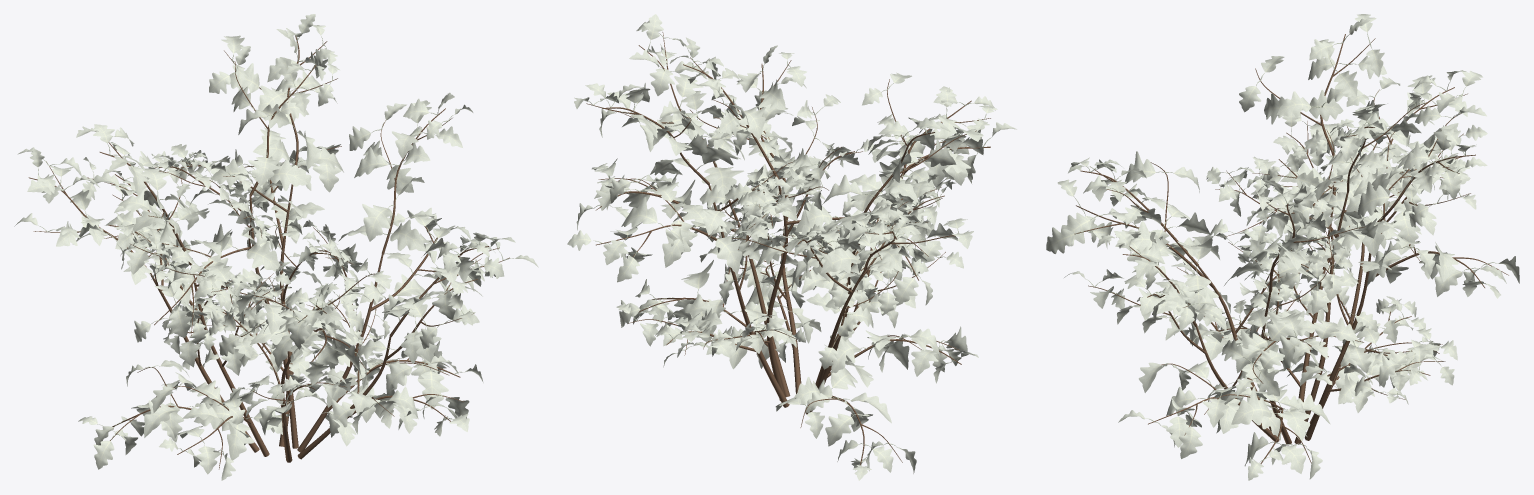
Rendered from hydrangea-branches.glb.
3 renders of one model, left to right at view 1: azimuth 30°, elevation 25°; view 2: azimuth 150°, elevation 25°; view 3: azimuth 270°, elevation 25°, orthographic. The views are drawn at different scales.
Parts seen in each view (by area): view 1: Stem 2 branch 2 upright node 1 blade 1, Stem 2 branch 2 upright node 0 blade 0, Stem 2 branch 0 arching node 3 blade 1, Stem 0 branch 0 arching node 1 blade 0, Persistent stem 2, Persistent stem 0, Stem 5 branch 1 arching node 0 blade 1, Stem 5 branch 2 upright node 0 blade 0, Persistent stem 5, Stem 4 branch 0 arching node 1 blade 0; view 2: Persistent stem 5, Persistent stem 1, Stem 2 branch 2 upright node 0 blade 1, Persistent stem 6, Stem 1 branch 1 arching node 0 blade 1, Stem 4 branch 2 upright node 0 blade 0, Persistent stem 2, Stem 4 branch 0 arching node 2 blade 0, Stem 1 branch 1 arching node 2 blade 0, Stem 1 branch 1 arching node 1 blade 0, Stem 5 branch 1 arching node 1 blade 1, Stem 0 branch 0 arching node 1 blade 1 (+3 smaller); view 3: Stem 2 branch 0 arching node 2 blade 0, Persistent stem 1, Stem 1 branch 2 upright node 1 blade 1, Stem 3 branch 1 arching node 0 blade 1, Stem 0 branch 2 upright lateral 0 node 0 blade 1, Persistent stem 5, Stem 2 branch 1 forked lateral 0 node 0 blade 1, Stem 2 branch 0 arching node 1 blade 0, Stem 3 branch 1 arching node 3 blade 0, Stem 3 branch 1 arching lateral 1 node 0 blade 0.
Part boxes in pixels (x1=…): Stem 2 branch 2 upright node 1 blade 1: x1=362, y1=204, x2=392, y2=241; Stem 2 branch 2 upright node 0 blade 0: x1=390, y1=219, x2=425, y2=251; Stem 2 branch 0 arching node 3 blade 1: x1=417, y1=371, x2=448, y2=409; Stem 0 branch 0 arching node 1 blade 0: x1=227, y1=419, x2=254, y2=460; Persistent stem 2: x1=297, y1=254, x2=383, y2=452; Persistent stem 0: x1=190, y1=265, x2=269, y2=456; Stem 5 branch 1 arching node 0 blade 1: x1=246, y1=242, x2=281, y2=271; Stem 5 branch 2 upright node 0 blade 0: x1=270, y1=159, x2=307, y2=190; Persistent stem 5: x1=249, y1=196, x2=298, y2=448; Stem 4 branch 0 arching node 1 blade 0: x1=144, y1=400, x2=177, y2=437; Persistent stem 5: x1=766, y1=179, x2=788, y2=400; Persistent stem 1: x1=708, y1=184, x2=789, y2=407; Stem 2 branch 2 upright node 0 blade 1: x1=701, y1=167, x2=743, y2=194; Persistent stem 6: x1=781, y1=216, x2=801, y2=393; Stem 1 branch 1 arching node 0 blade 1: x1=715, y1=235, x2=742, y2=273; Stem 4 branch 2 upright node 0 blade 0: x1=820, y1=242, x2=860, y2=273; Persistent stem 2: x1=728, y1=200, x2=790, y2=397; Stem 4 branch 0 arching node 2 blade 0: x1=825, y1=413, x2=854, y2=446; Stem 1 branch 1 arching node 2 blade 0: x1=621, y1=197, x2=657, y2=227; Stem 1 branch 1 arching node 1 blade 0: x1=662, y1=229, x2=692, y2=267; Stem 5 branch 1 arching node 1 blade 1: x1=795, y1=202, x2=832, y2=232; Stem 0 branch 0 arching node 1 blade 1: x1=831, y1=337, x2=861, y2=374; Stem 2 branch 0 arching node 2 blade 0: x1=1231, y1=386, x2=1271, y2=425; Persistent stem 1: x1=1304, y1=253, x2=1371, y2=440; Stem 1 branch 2 upright node 1 blade 1: x1=1357, y1=181, x2=1389, y2=216; Stem 3 branch 1 arching node 0 blade 1: x1=1185, y1=275, x2=1218, y2=321; Stem 0 branch 2 upright lateral 0 node 0 blade 1: x1=1309, y1=90, x2=1343, y2=121; Persistent stem 5: x1=1294, y1=192, x2=1348, y2=444; Stem 2 branch 1 forked lateral 0 node 0 blade 1: x1=1267, y1=311, x2=1304, y2=340; Stem 2 branch 0 arching node 1 blade 0: x1=1278, y1=408, x2=1310, y2=441; Stem 3 branch 1 arching node 3 blade 0: x1=1061, y1=212, x2=1090, y2=246; Stem 3 branch 1 arching lateral 1 node 0 blade 0: x1=1046, y1=227, x2=1074, y2=253.
Size of the model in its own units: 3.07 by 2.43 by 2.81.
2 materials, 1 textured.
